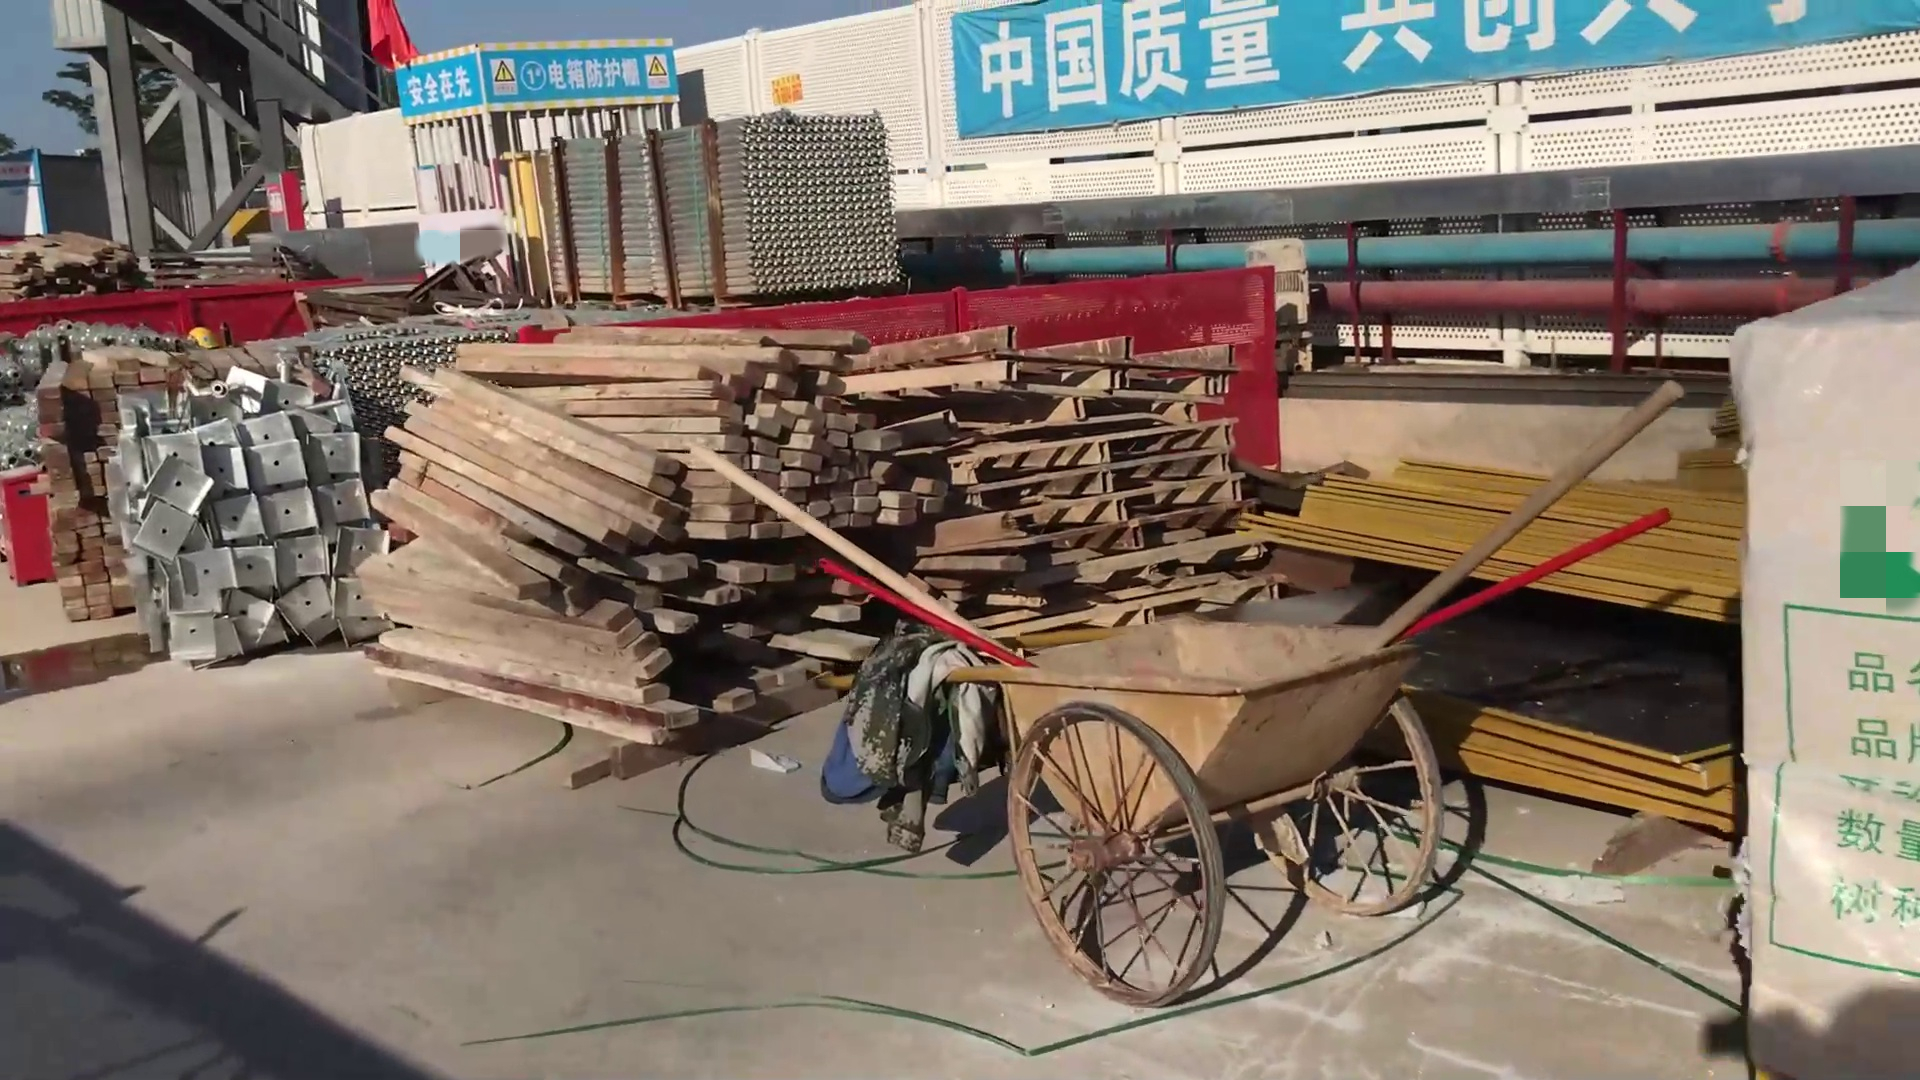board: (1290, 419, 1731, 829)
fence: (919, 257, 1275, 458)
handcart: (997, 622, 1443, 1004)
scaffold: (533, 120, 913, 295), (306, 330, 463, 435)
slogan: (967, 1, 1920, 127), (398, 61, 483, 105)
wood: (382, 324, 936, 719), (26, 361, 142, 630), (11, 233, 142, 293)
